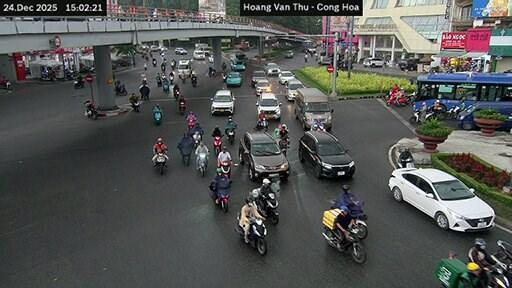motorbike: (322, 208, 364, 261), (330, 193, 367, 238), (435, 252, 472, 286), (250, 188, 278, 223), (490, 239, 511, 278), (249, 217, 265, 255), (210, 180, 229, 211), (486, 265, 508, 287), (387, 93, 409, 106), (154, 153, 166, 174), (397, 151, 413, 166), (234, 212, 243, 238), (444, 104, 460, 117), (218, 161, 230, 178), (278, 136, 288, 156), (198, 153, 207, 175), (253, 117, 268, 130), (83, 103, 96, 118), (425, 109, 440, 120), (138, 85, 149, 99), (192, 131, 201, 147), (39, 71, 54, 80), (64, 68, 76, 79), (153, 111, 162, 125), (0, 77, 10, 89), (115, 84, 127, 94), (409, 109, 419, 121), (214, 135, 220, 154), (131, 100, 140, 111), (178, 100, 185, 113), (227, 129, 233, 144), (186, 117, 195, 127), (182, 153, 189, 165), (79, 66, 93, 72), (73, 80, 83, 88), (163, 81, 169, 93), (172, 89, 179, 99), (140, 76, 146, 84), (170, 59, 175, 68), (191, 76, 195, 85), (156, 77, 160, 85), (153, 58, 156, 67), (180, 77, 185, 82), (179, 73, 185, 77), (169, 76, 172, 82)
